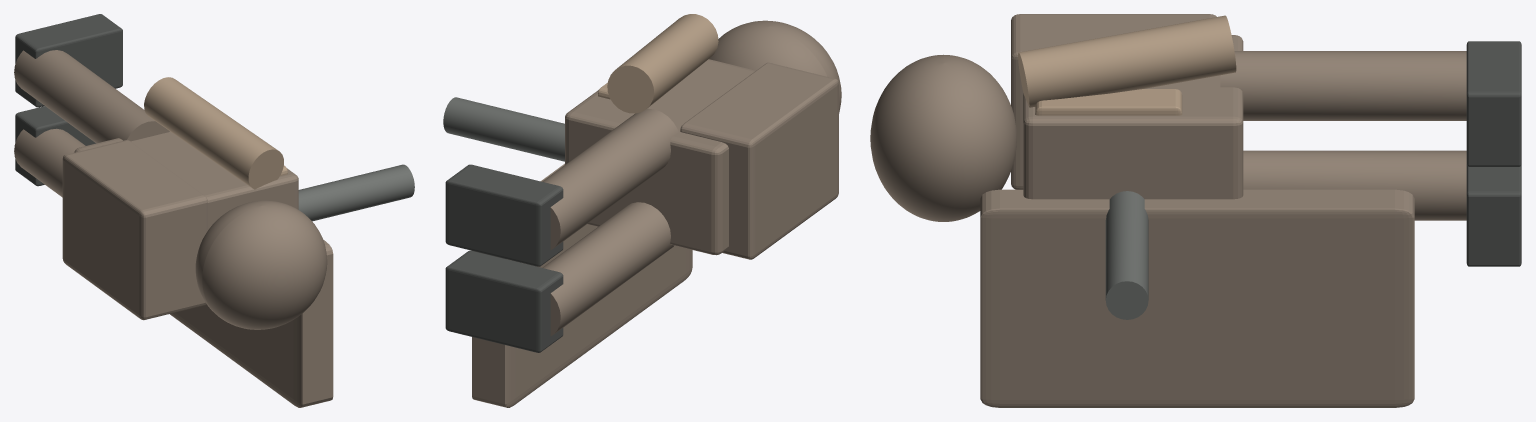
The model's file is d-u10-dominion-operator-lod1.glb.
3 renders of one model, left to right at view 1: azimuth 30°, elevation 25°; view 2: azimuth 150°, elevation 25°; view 3: azimuth 270°, elevation 25°, orthographic. The views are drawn at different scales.
Parts seen in each view (by area): view 1: soldier_0_backpack, soldier_0_helmet, ballistic_shield, soldier_0_leg_1, soldier_0_arm_1, soldier_0_torso, soldier_0_boot_1, soldier_0_rifle, soldier_0_leg_-1, soldier_0_boot_-1; view 2: soldier_0_backpack, soldier_0_torso, ballistic_shield, soldier_0_boot_1, soldier_0_boot_-1, soldier_0_leg_1, soldier_0_leg_-1, soldier_0_arm_1, soldier_0_helmet, soldier_0_rifle; view 3: ballistic_shield, soldier_0_torso, soldier_0_helmet, soldier_0_leg_1, soldier_0_arm_1, soldier_0_leg_-1, soldier_0_boot_1, soldier_0_backpack, soldier_0_boot_-1, soldier_0_rifle, soldier_0_chest.
Part boxes in pixels (x1,y1,x2,y2): soldier_0_backpack: (62, 140, 207, 320); soldier_0_helmet: (195, 200, 327, 329); ballistic_shield: (170, 240, 333, 407); soldier_0_leg_1: (14, 50, 169, 143); soldier_0_arm_1: (144, 77, 283, 189); soldier_0_torso: (74, 131, 298, 230); soldier_0_boot_1: (15, 14, 122, 107); soldier_0_rifle: (298, 164, 414, 221); soldier_0_leg_-1: (14, 128, 85, 197); soldier_0_boot_-1: (15, 106, 95, 186); soldier_0_backpack: (680, 62, 838, 259); soldier_0_torso: (565, 59, 755, 255); ballistic_shield: (472, 163, 692, 407); soldier_0_boot_1: (445, 164, 563, 266); soldier_0_boot_-1: (445, 250, 563, 352); soldier_0_leg_1: (542, 108, 678, 249); soldier_0_leg_-1: (542, 202, 674, 335); soldier_0_arm_1: (607, 14, 718, 113); soldier_0_helmet: (709, 20, 841, 113); soldier_0_rifle: (443, 97, 564, 161); ballistic_shield: (980, 189, 1414, 407); soldier_0_torso: (1023, 35, 1243, 199); soldier_0_helmet: (870, 54, 1016, 221); soldier_0_leg_1: (1220, 51, 1466, 120); soldier_0_arm_1: (1018, 15, 1236, 107); soldier_0_leg_-1: (1243, 150, 1466, 220); soldier_0_boot_1: (1466, 41, 1521, 166); soldier_0_backpack: (1011, 14, 1216, 189); soldier_0_boot_-1: (1466, 164, 1521, 266); soldier_0_rifle: (1105, 191, 1148, 319); soldier_0_chest: (1035, 89, 1182, 115).
Size of what is drawn, in the model's own units: 1.48 by 1.25 by 2.13.
